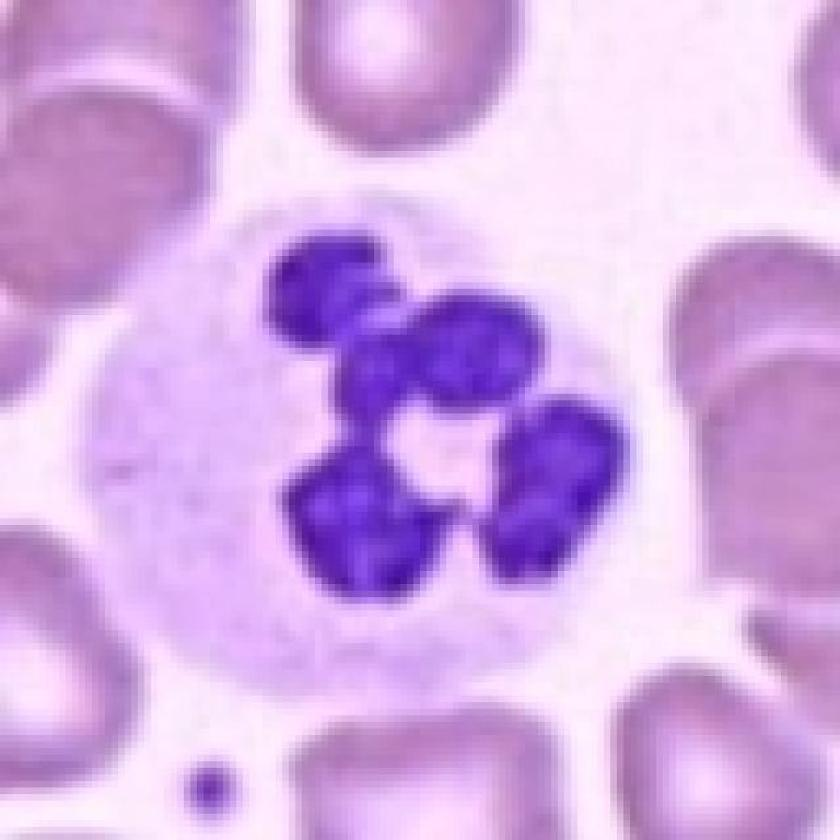neutrophil: (90, 186, 656, 710)
